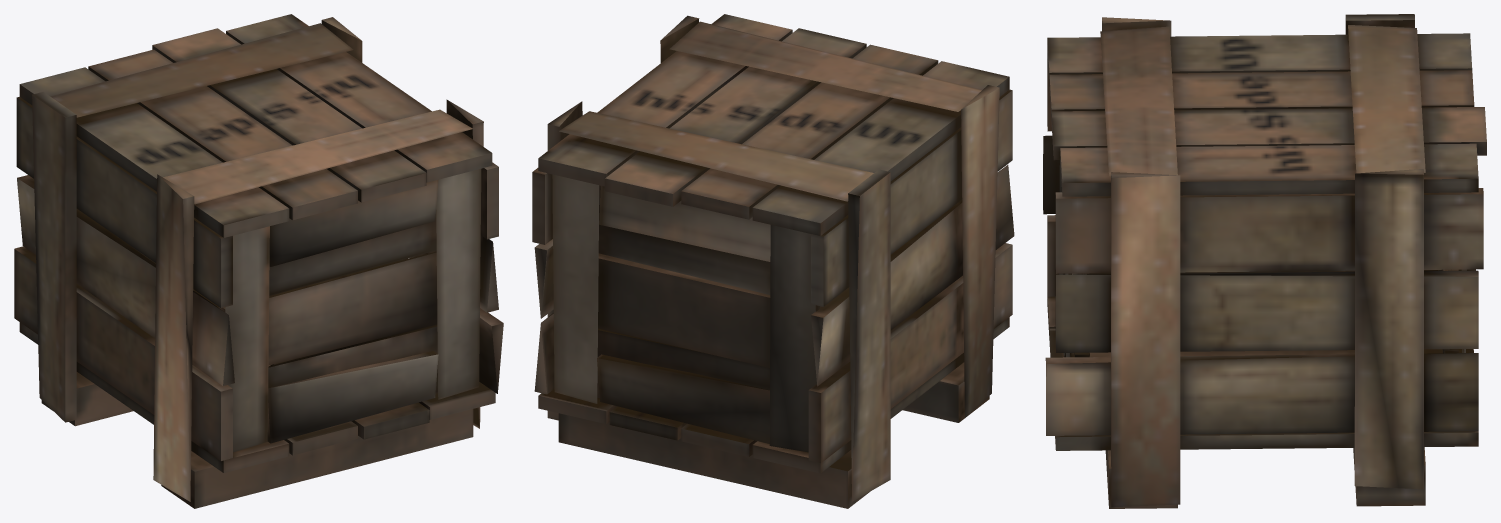
The model's file is Wooden box 2,6.fbx.
The picture shows the model from 3 angles, left to right: view 1: azimuth 30°, elevation 25°; view 2: azimuth 150°, elevation 25°; view 3: azimuth 270°, elevation 25°; orthographic projection. The views are drawn at different scales.
Visible parts, largest first — view 1: Wooden_box006_LOD0; view 2: Wooden_box006_LOD0; view 3: Wooden_box006_LOD0.
Part boxes in pixels (bbox=[...]): Wooden_box006_LOD0: bbox=[14, 14, 503, 508]; Wooden_box006_LOD0: bbox=[532, 14, 1014, 508]; Wooden_box006_LOD0: bbox=[1043, 14, 1486, 508].
Size of what is drawn, in the model's own units: 53.02 by 50.77 by 60.62.
